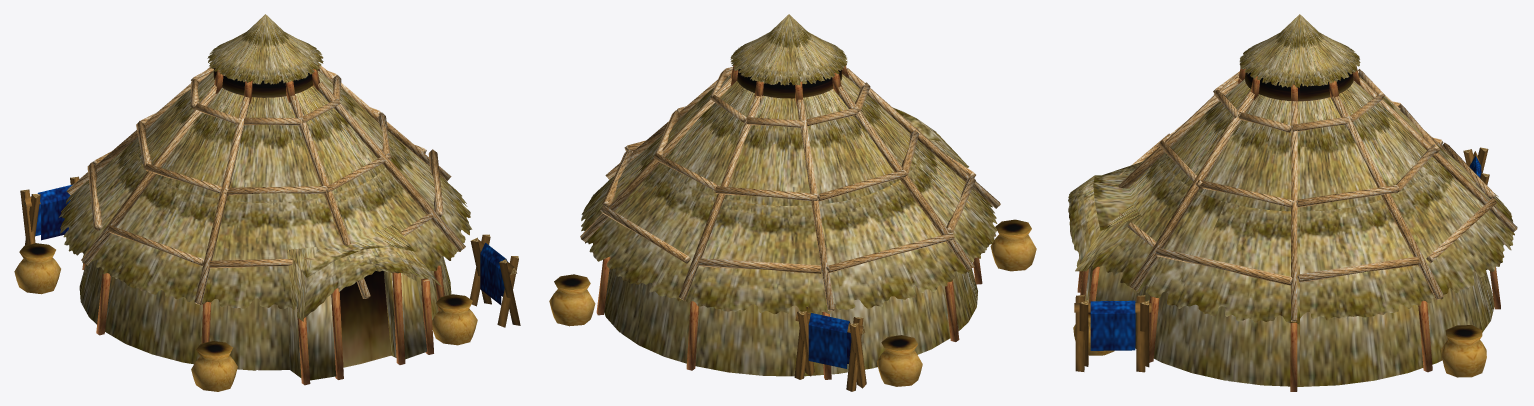
The model's file is house_3.dae.
The picture shows the model from 3 angles, left to right: view 1: azimuth 30°, elevation 25°; view 2: azimuth 150°, elevation 25°; view 3: azimuth 270°, elevation 25°; orthographic projection. The views are drawn at different scales.
Parts seen in each view (by area): view 1: house_3; view 2: house_3; view 3: house_3.
Boxes of the visible parts, bbox=[...] form: house_3: bbox=[14, 14, 520, 391]; house_3: bbox=[549, 14, 1036, 391]; house_3: bbox=[1068, 14, 1517, 391].
Bounding box in the file's own units: 12.55 × 12.79 × 9.1.
